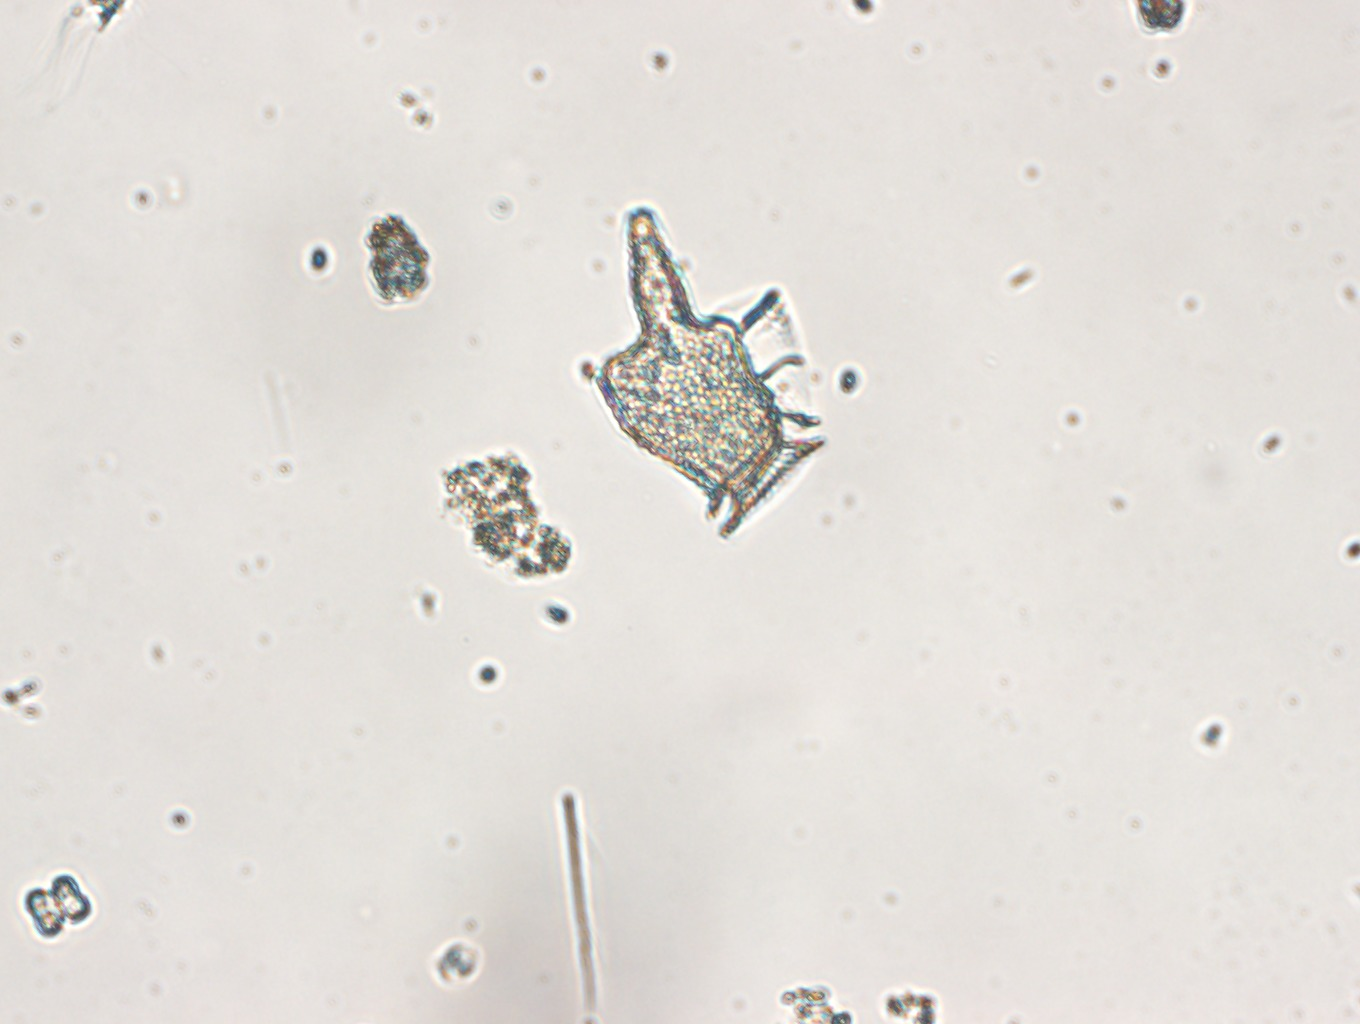dinophysis caudata: (598, 203, 818, 536)
